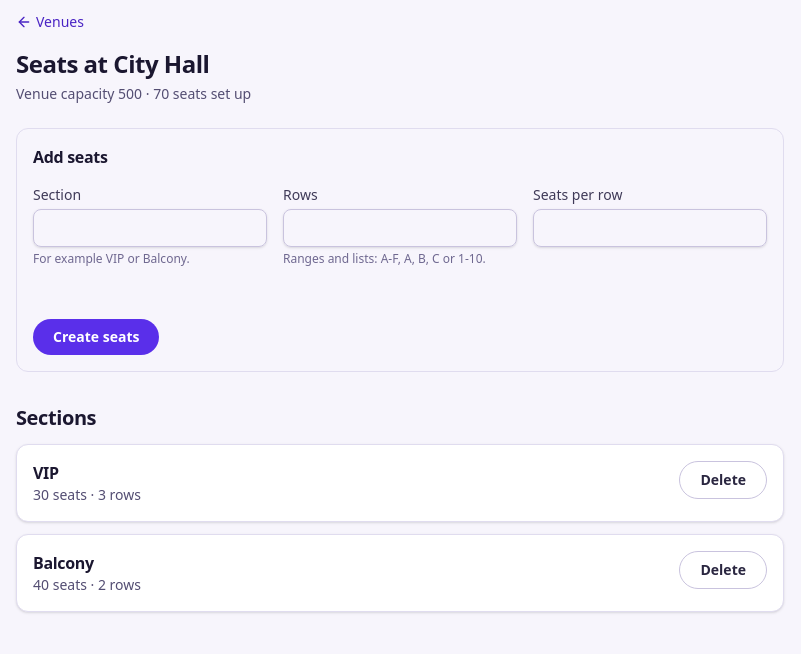
Scenario: OrganizerSeatsPage › checks the form without calling the server
Check: the text "30 seats · 3 rows" is shown, box [33, 485, 141, 505]
Click the button "Create seats" at (96, 337), box [33, 319, 159, 355]
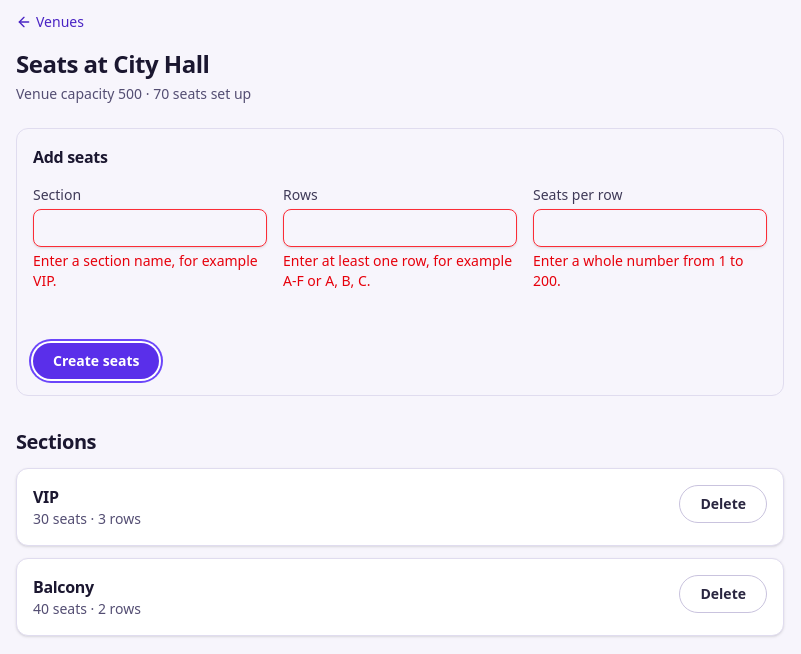
Check: the text "Enter a section name, for example VIP." is shown, box [33, 251, 267, 291]
Check: the text "Enter at least one row, for example A-F or A, B, C." is shown, box [283, 251, 517, 291]
Check: the text "Enter a whole number from 1 to 200." is shown, box [533, 251, 767, 291]
